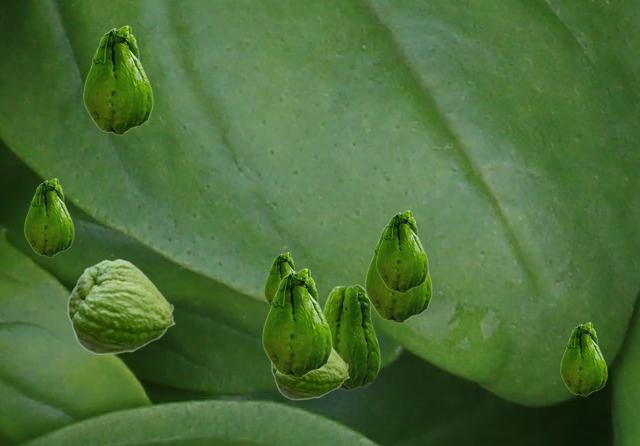sayote: (67, 258, 175, 354), (83, 25, 152, 134), (262, 268, 331, 377), (365, 224, 431, 322), (323, 284, 379, 389), (376, 210, 427, 292), (271, 346, 349, 399), (24, 178, 73, 256), (560, 322, 606, 395), (264, 252, 295, 306)
